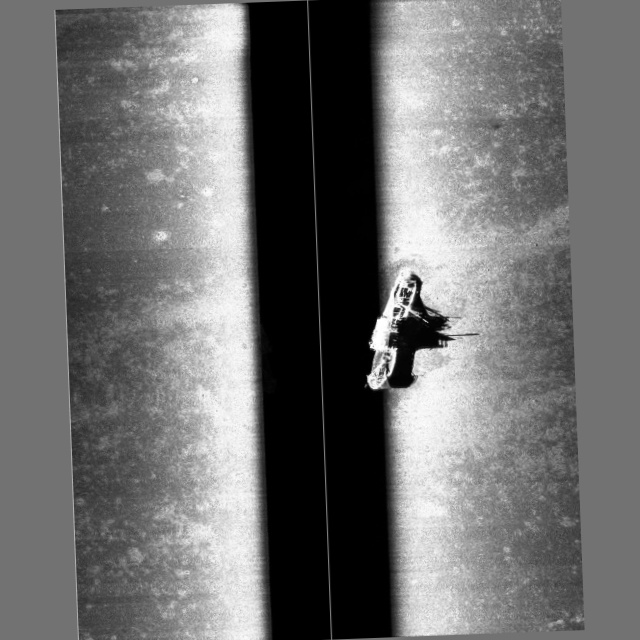Shipwreck: (360, 272, 432, 392)
